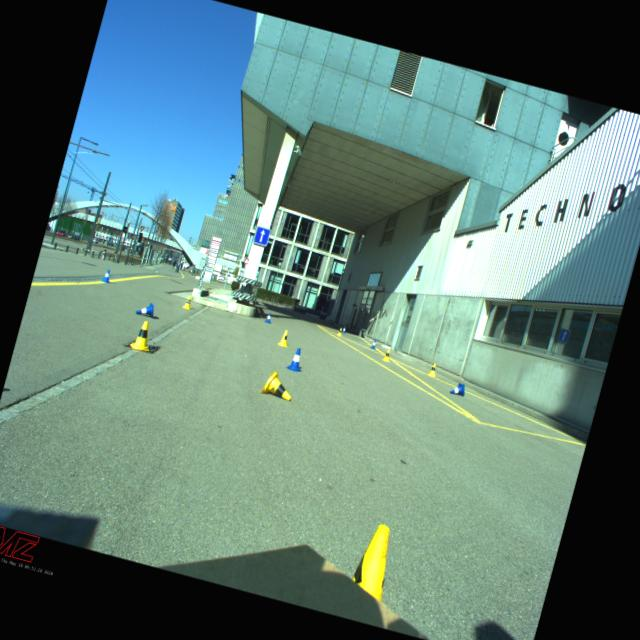blue_cone: (284, 346, 308, 373), (135, 299, 157, 319), (449, 382, 467, 396), (100, 268, 112, 283), (264, 312, 273, 324), (369, 339, 377, 349), (341, 326, 347, 334)
yellow_cone: (348, 520, 400, 602), (260, 368, 296, 402), (128, 318, 156, 352), (276, 328, 292, 348), (180, 294, 194, 310), (427, 362, 438, 377), (381, 348, 392, 362), (336, 326, 343, 336)
